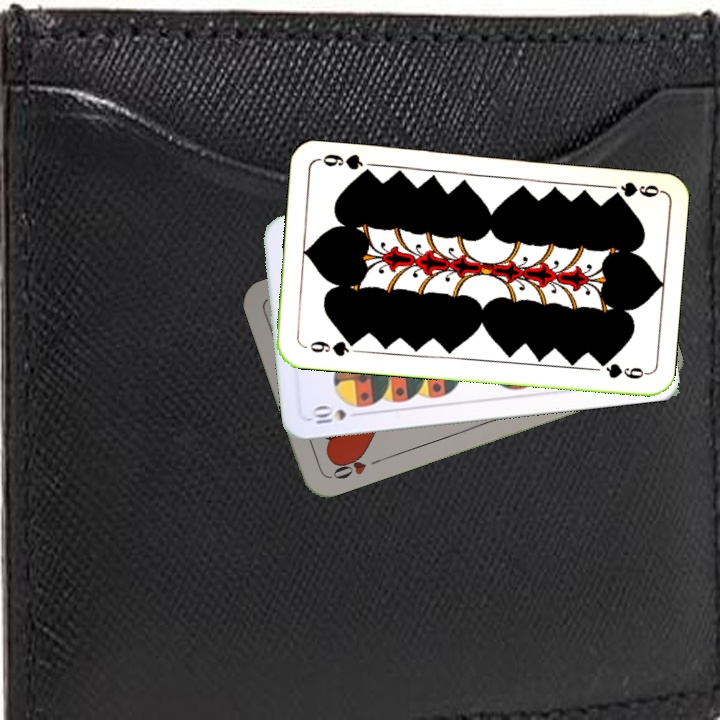G9: (306, 336, 360, 359), (608, 178, 663, 200)
HO: (327, 449, 384, 482)
S10: (306, 403, 365, 427)
